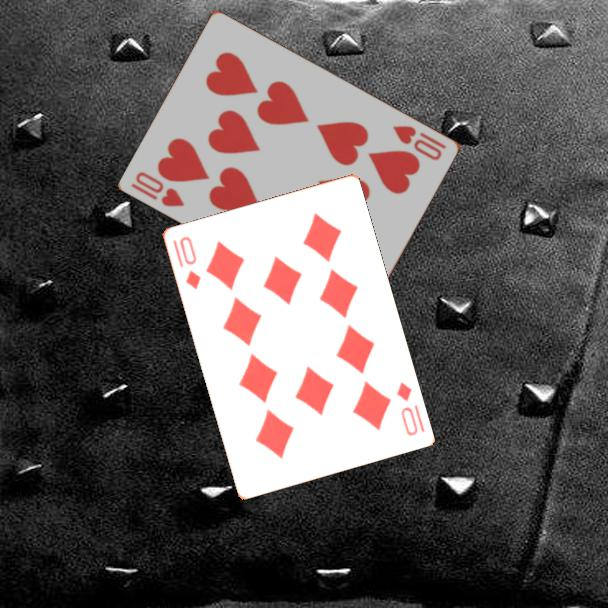d10: (392, 378, 427, 439), (176, 233, 204, 292)
h10: (128, 168, 188, 210), (389, 122, 449, 163)
